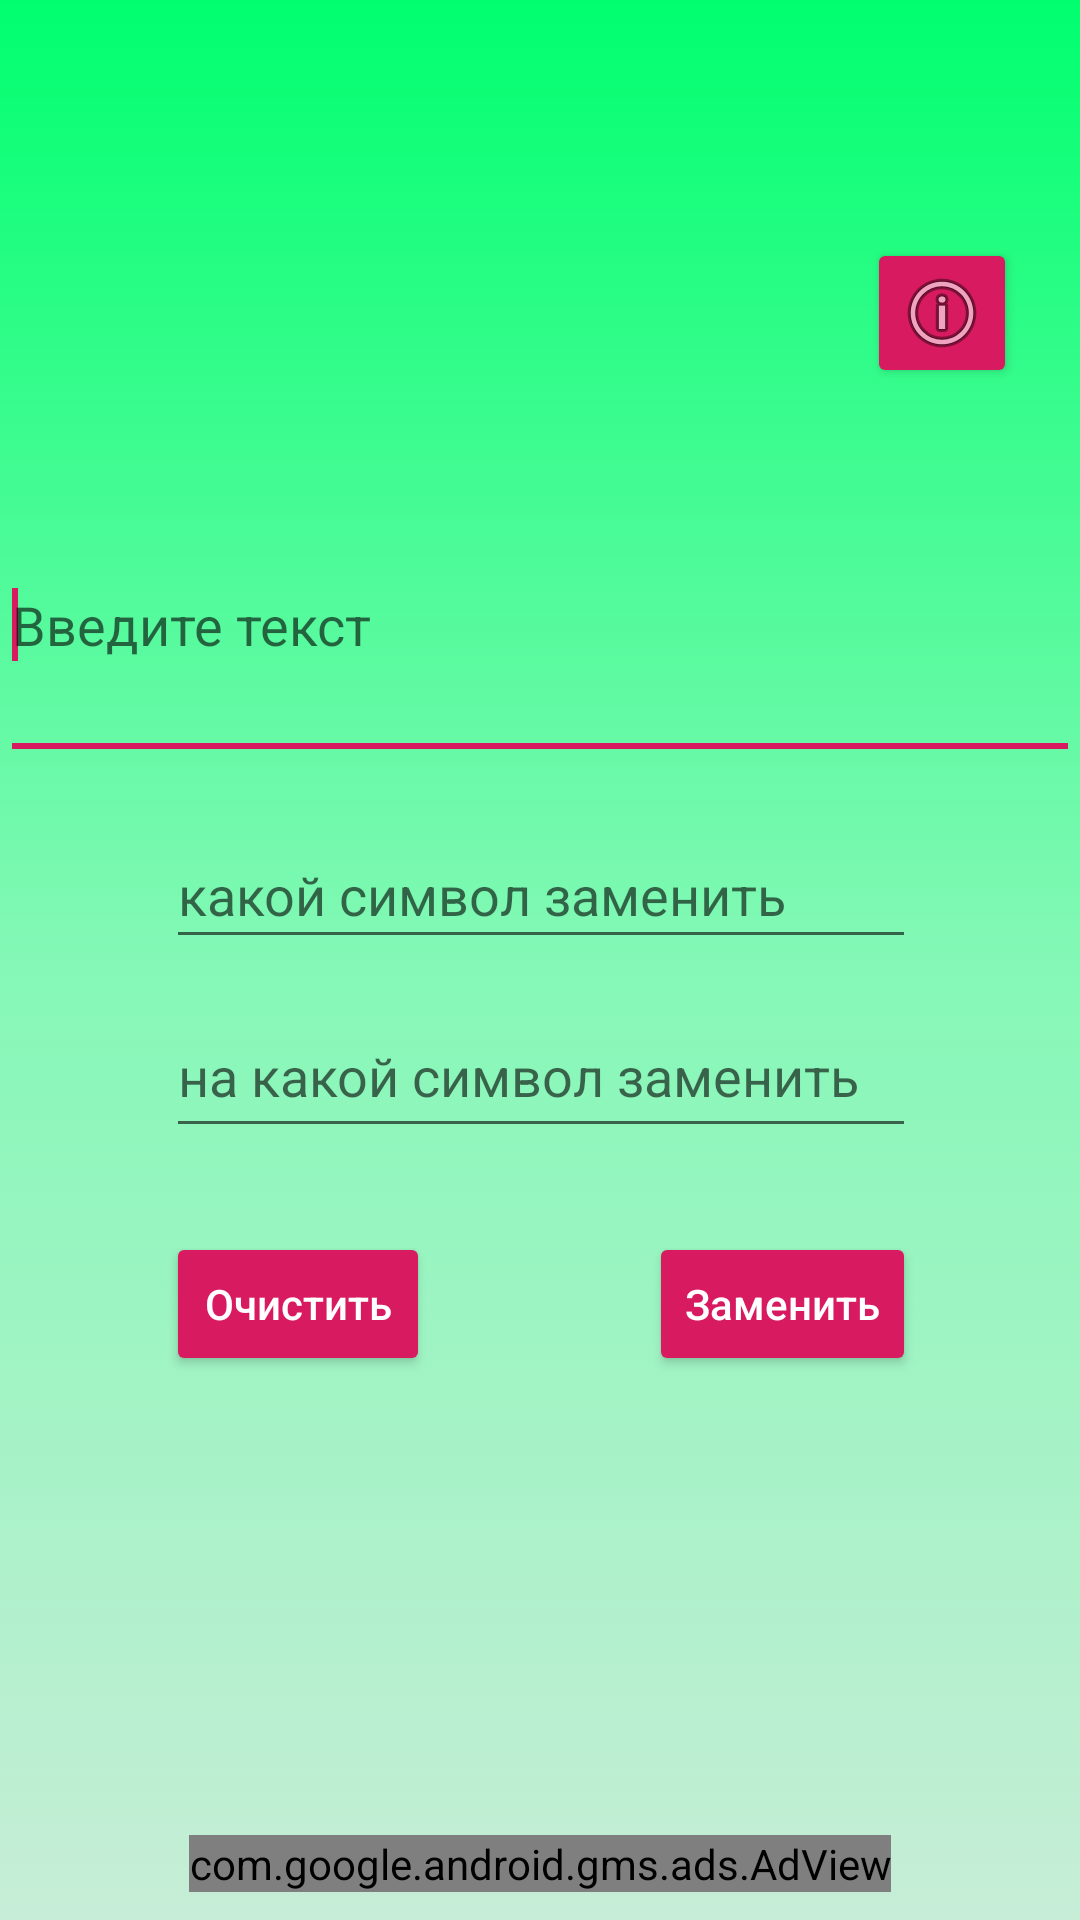

Icon click points for this 1080x1920 phone screenshot, format [x,y]:
info details: [942,313]
